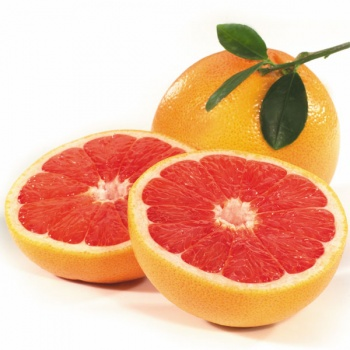grapefruit: (138, 153, 339, 314), (154, 43, 350, 185), (3, 130, 180, 270)
